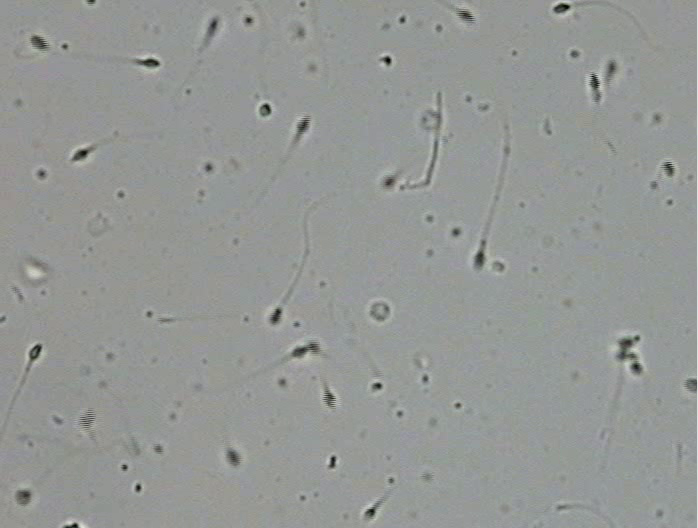Impurity: (370, 301, 390, 321)
S: (29, 34, 50, 53), (616, 337, 633, 360), (322, 387, 337, 410), (79, 409, 95, 430), (456, 8, 475, 24), (296, 115, 310, 136), (226, 449, 242, 467), (70, 148, 89, 162), (135, 58, 160, 68), (16, 490, 31, 506), (473, 250, 485, 270), (660, 161, 675, 177), (269, 307, 282, 325), (206, 18, 218, 36), (588, 72, 600, 90), (29, 344, 42, 360), (306, 341, 320, 355), (684, 378, 697, 393), (553, 3, 570, 14), (363, 507, 376, 521), (630, 361, 643, 375), (292, 346, 308, 357), (259, 103, 271, 117), (383, 176, 395, 188), (605, 62, 616, 75), (86, 1, 96, 5)
